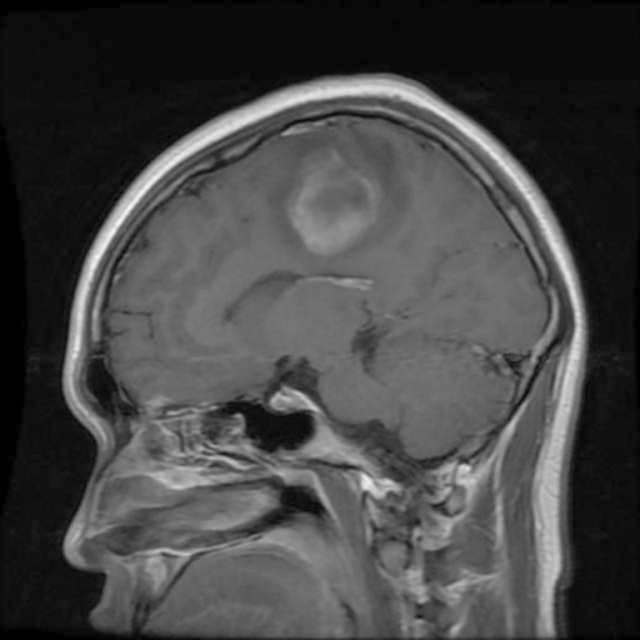pituitary tumor: (287, 150, 378, 251)
